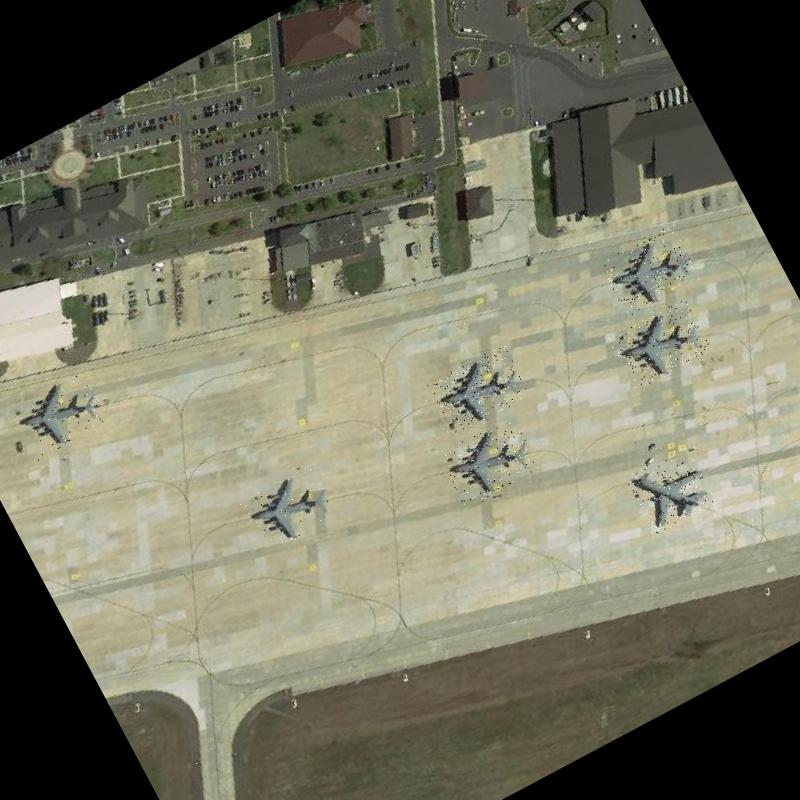A18: (624, 443, 718, 535)
A3: (237, 460, 343, 557), (436, 414, 542, 510), (426, 342, 532, 436), (607, 296, 712, 390), (8, 368, 110, 462), (598, 224, 702, 316)
